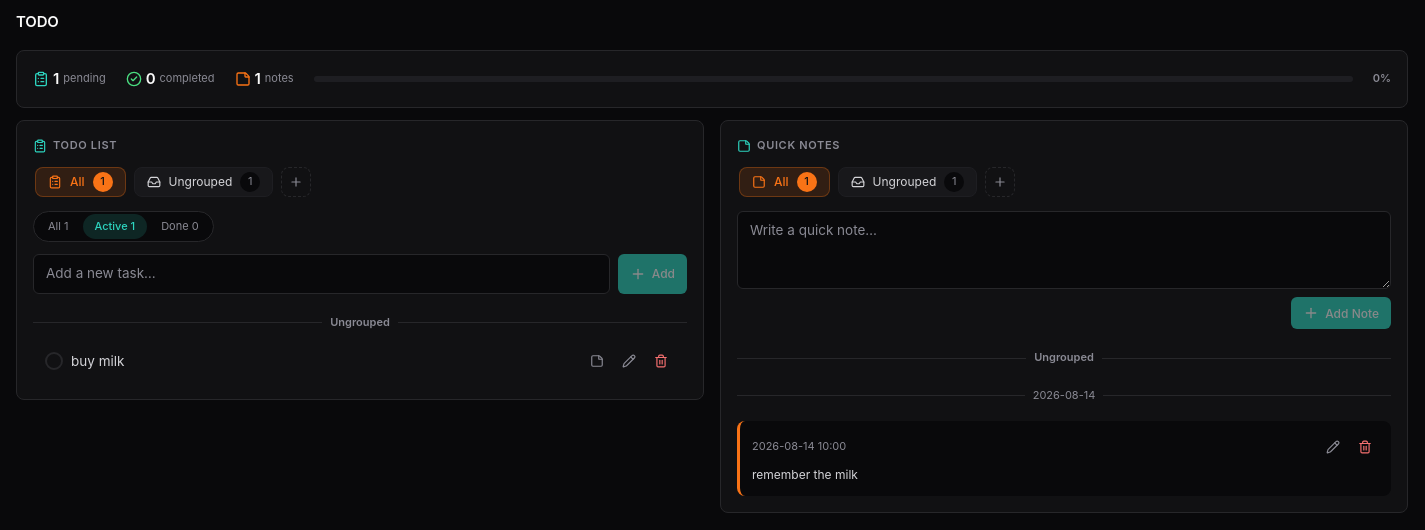
Scenario: TodoPage › deletes a note via the note card delete button
The image size is (1425, 530).
Click the button with test id "note-delete": (1365, 446) 1351,432 -> 1379,460
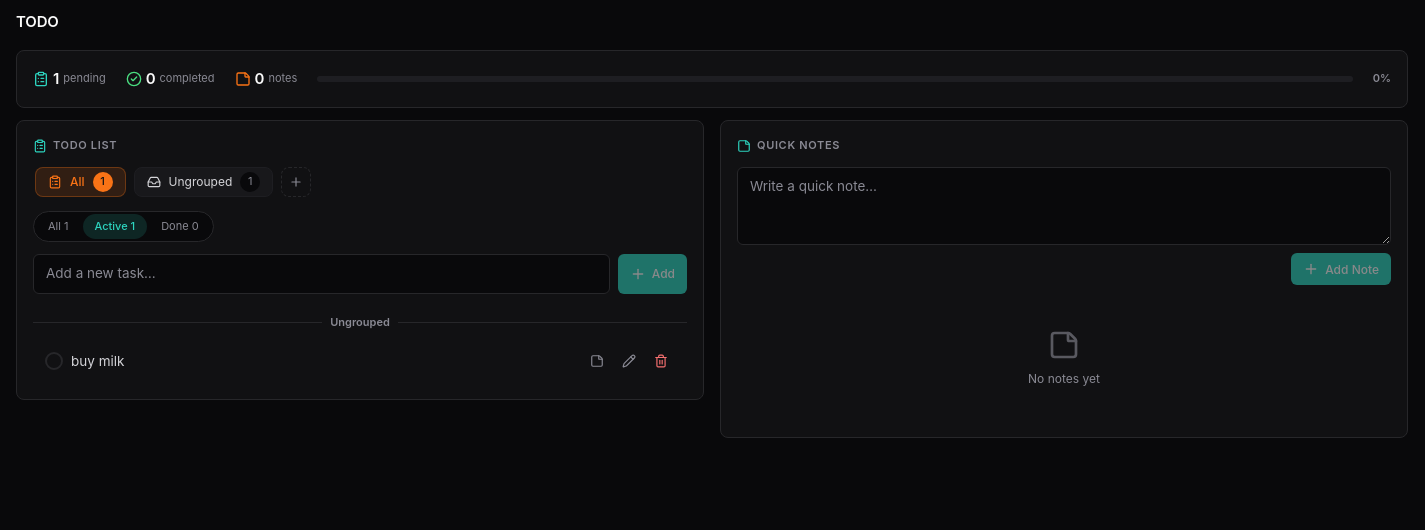
Expected: the text "No notes yet" is shown, 1028,369 -> 1100,388
